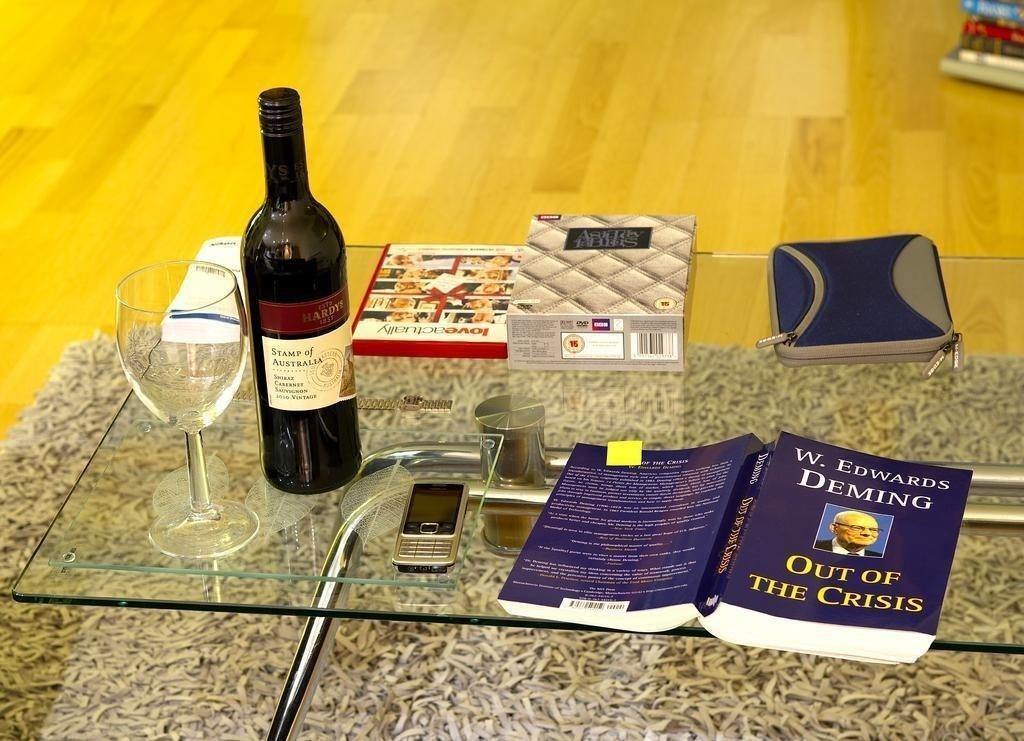bottle-glass: (238, 87, 363, 495)
glass-wine: (115, 259, 261, 556)
